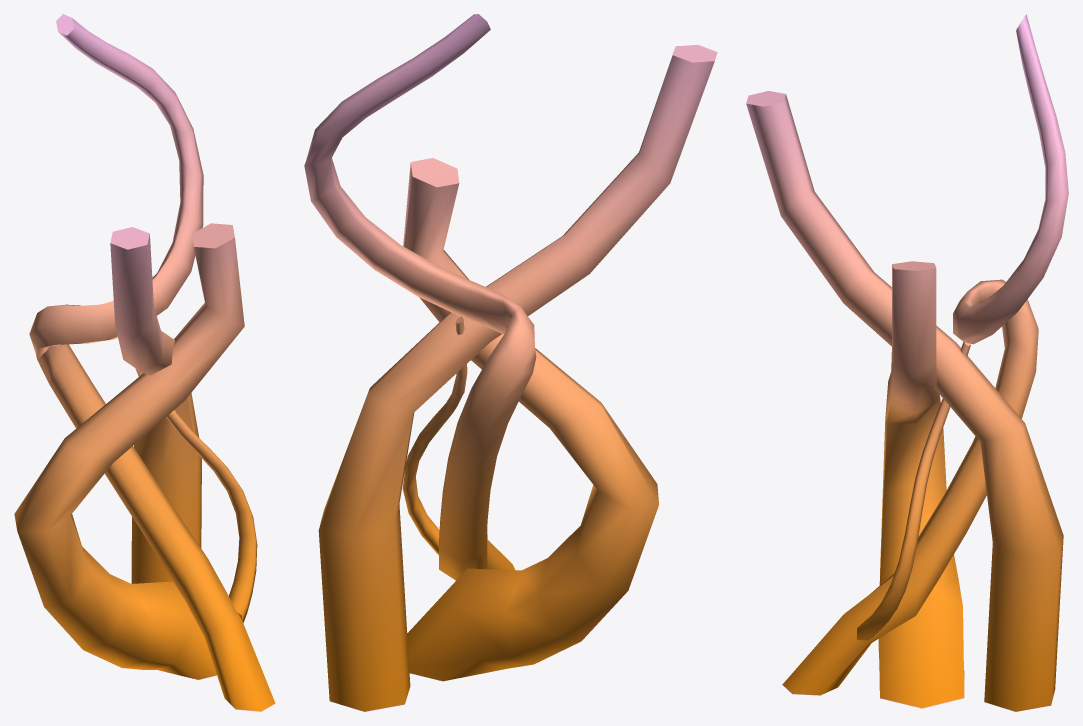
Rendered from MOD_Coral2.fbx.
The picture shows the model from 3 angles, left to right: view 1: azimuth 30°, elevation 25°; view 2: azimuth 150°, elevation 25°; view 3: azimuth 270°, elevation 25°; orthographic projection. The views are drawn at different scales.
Parts seen in each view (by area): view 1: MOD_Coral2; view 2: MOD_Coral2; view 3: MOD_Coral2.
Boxes of the visible parts, x1,y1,x2,y2 form: MOD_Coral2: (14, 14, 275, 711); MOD_Coral2: (304, 14, 717, 711); MOD_Coral2: (746, 14, 1068, 711).
Size of the model in its own units: 2.71 by 6.65 by 3.07.
Materials: 1 (1 with a texture image).
